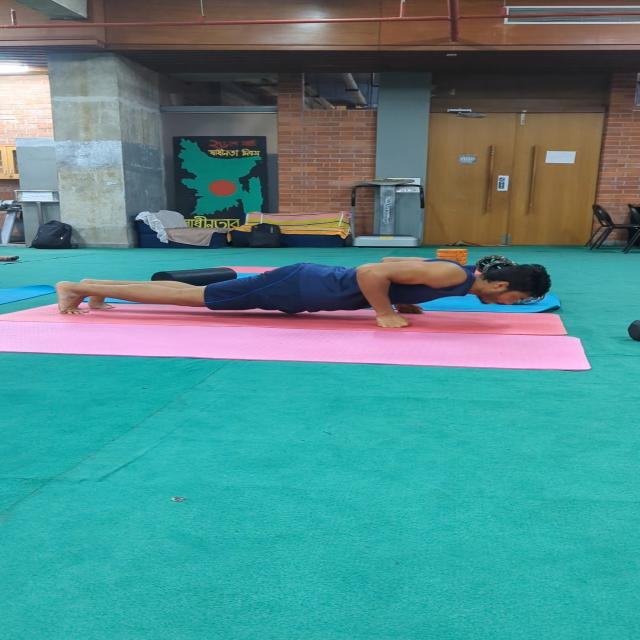Normal_PushUps: (47, 250, 569, 340)
